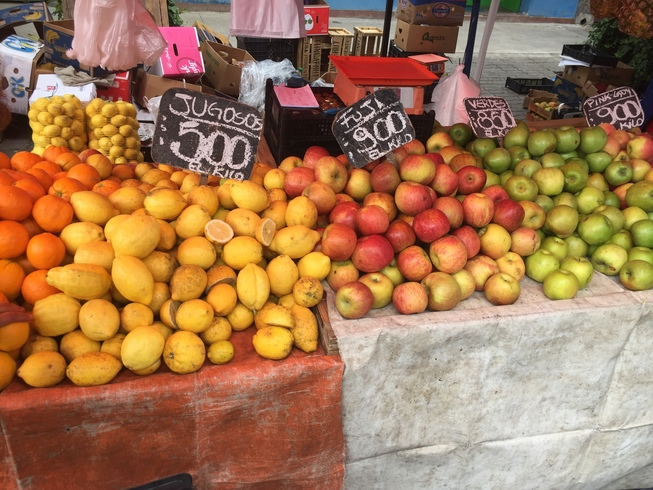precio: (150, 83, 270, 191), (332, 86, 422, 169), (580, 83, 651, 137), (462, 93, 525, 147)
